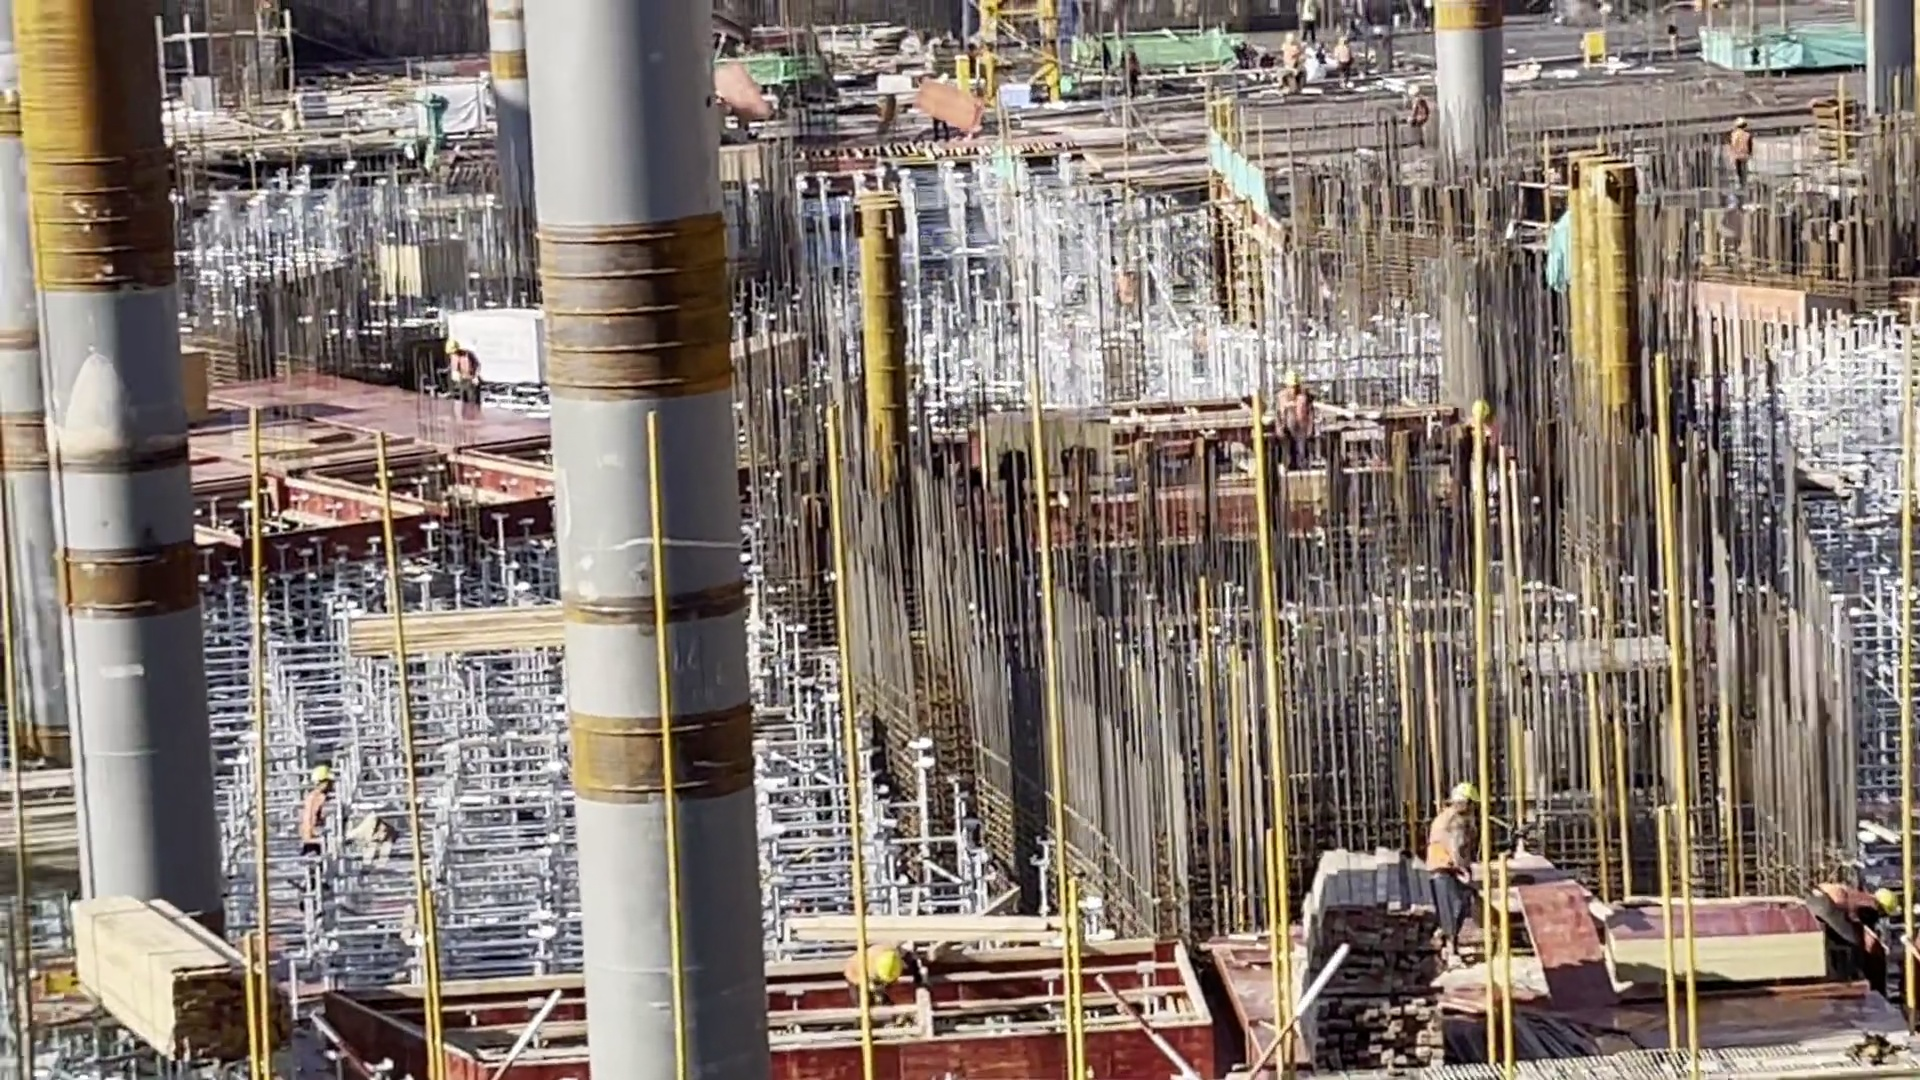board: (1599, 901, 1831, 983)
ebox: (1584, 37, 1607, 65)
helmet: (1450, 782, 1490, 809), (876, 954, 901, 982), (1467, 401, 1495, 424), (306, 764, 330, 787), (1876, 882, 1894, 912), (1405, 82, 1421, 96), (1735, 116, 1749, 131), (444, 340, 457, 351), (1286, 34, 1296, 43), (1337, 37, 1349, 43)
person: (1420, 781, 1516, 989), (1795, 860, 1908, 1016), (844, 943, 927, 1024), (1268, 370, 1315, 460), (297, 760, 336, 858), (444, 337, 485, 425), (1460, 393, 1499, 447), (1402, 77, 1428, 148), (1329, 34, 1357, 90), (1729, 119, 1751, 184), (1119, 45, 1143, 102), (1276, 32, 1304, 77), (1296, 1, 1320, 43)
vest: (1430, 812, 1472, 876), (1814, 877, 1877, 913), (847, 950, 883, 983), (304, 792, 328, 842), (1272, 395, 1304, 433), (452, 357, 476, 383), (1410, 100, 1429, 128), (1731, 135, 1751, 161), (1124, 54, 1140, 79), (1285, 47, 1299, 67), (1302, 2, 1314, 25), (1337, 48, 1352, 64)
wood: (79, 893, 277, 1063), (1312, 848, 1432, 987), (1318, 995, 1444, 1080), (7, 775, 91, 884)
